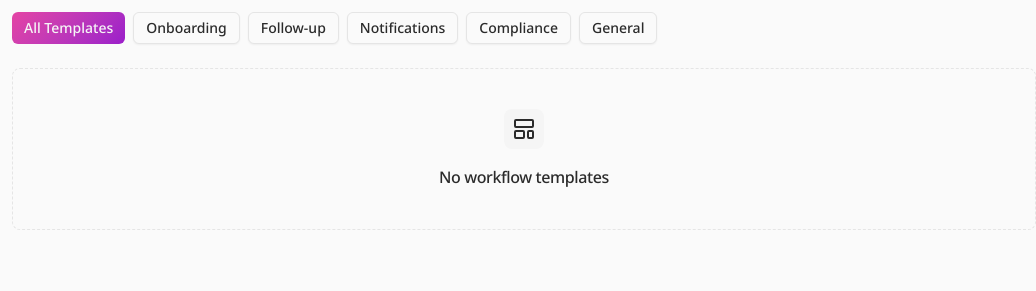
Test: WorkflowTemplatesPanel › shows "No workflow templates" without a filter hint when no category is selected
This screenshot has width=1036, height=291.
Expected: the heading "No workflow templates" is shown, left=439, top=165, right=609, bottom=189
Expected: the button "Clear filters" is not shown
Click the button "Onboarding": click(186, 28) left=133, top=12, right=240, bottom=44
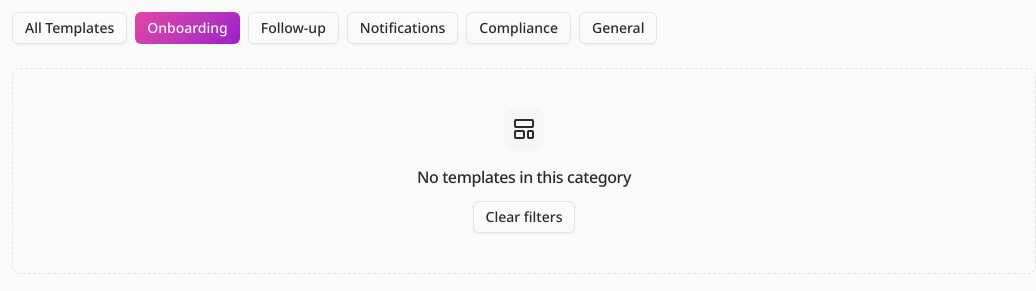
Expected: the heading "No templates in this category" is shown, left=417, top=165, right=631, bottom=189
Click the button "Clear filters": click(524, 217) left=472, top=201, right=576, bottom=233
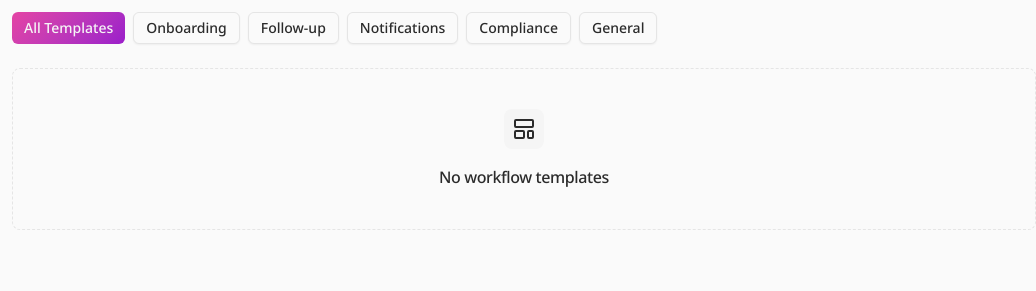
Expected: the heading "No workflow templates" is shown, left=439, top=165, right=609, bottom=189
